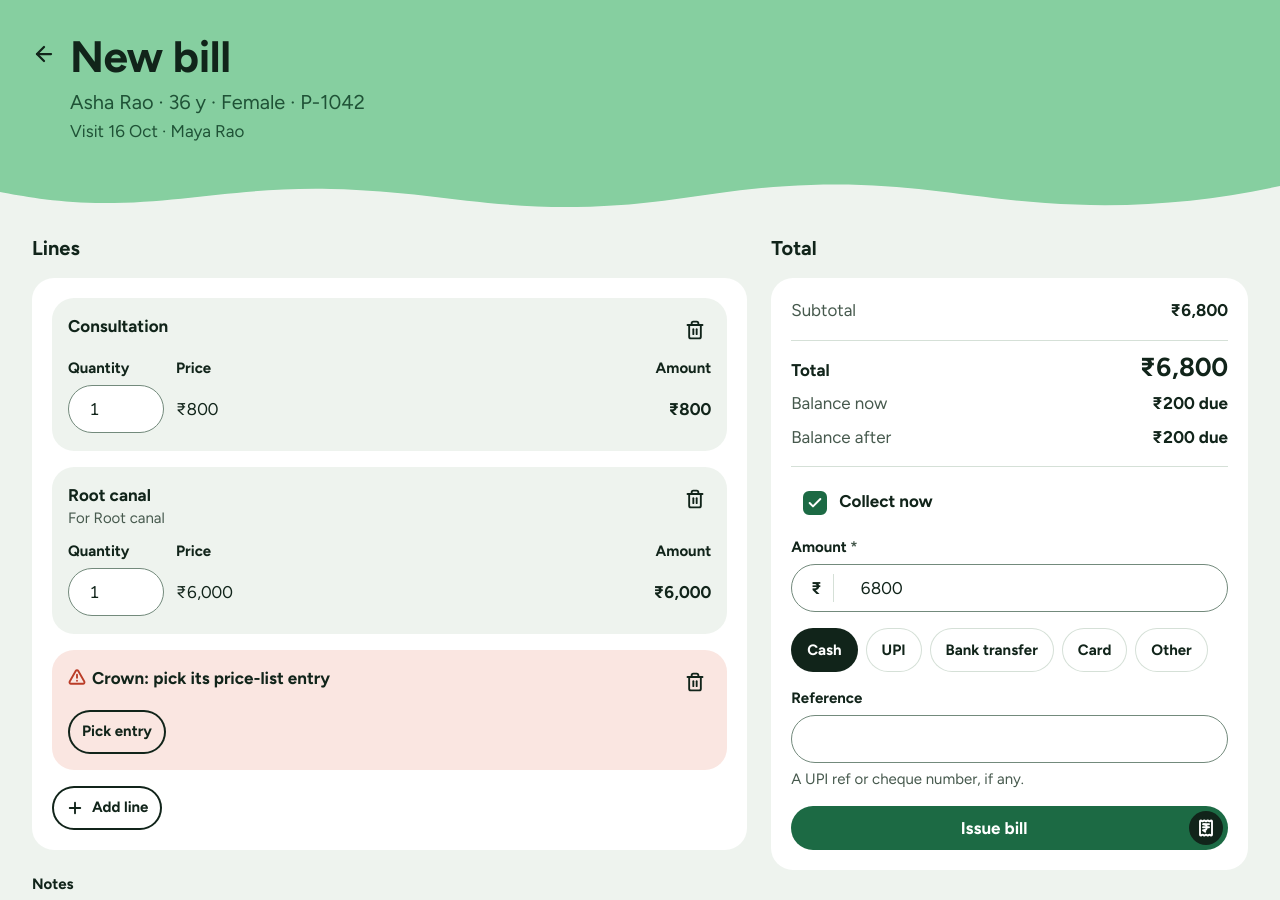
Test: NewBill (plan §15.2; D302 – D313) › issues nothing until the reminder has its entry, then issues it and goes back to the visit (D302, D308)
Click the button "Issue bill": (1010, 828) [791,806,1228,850]
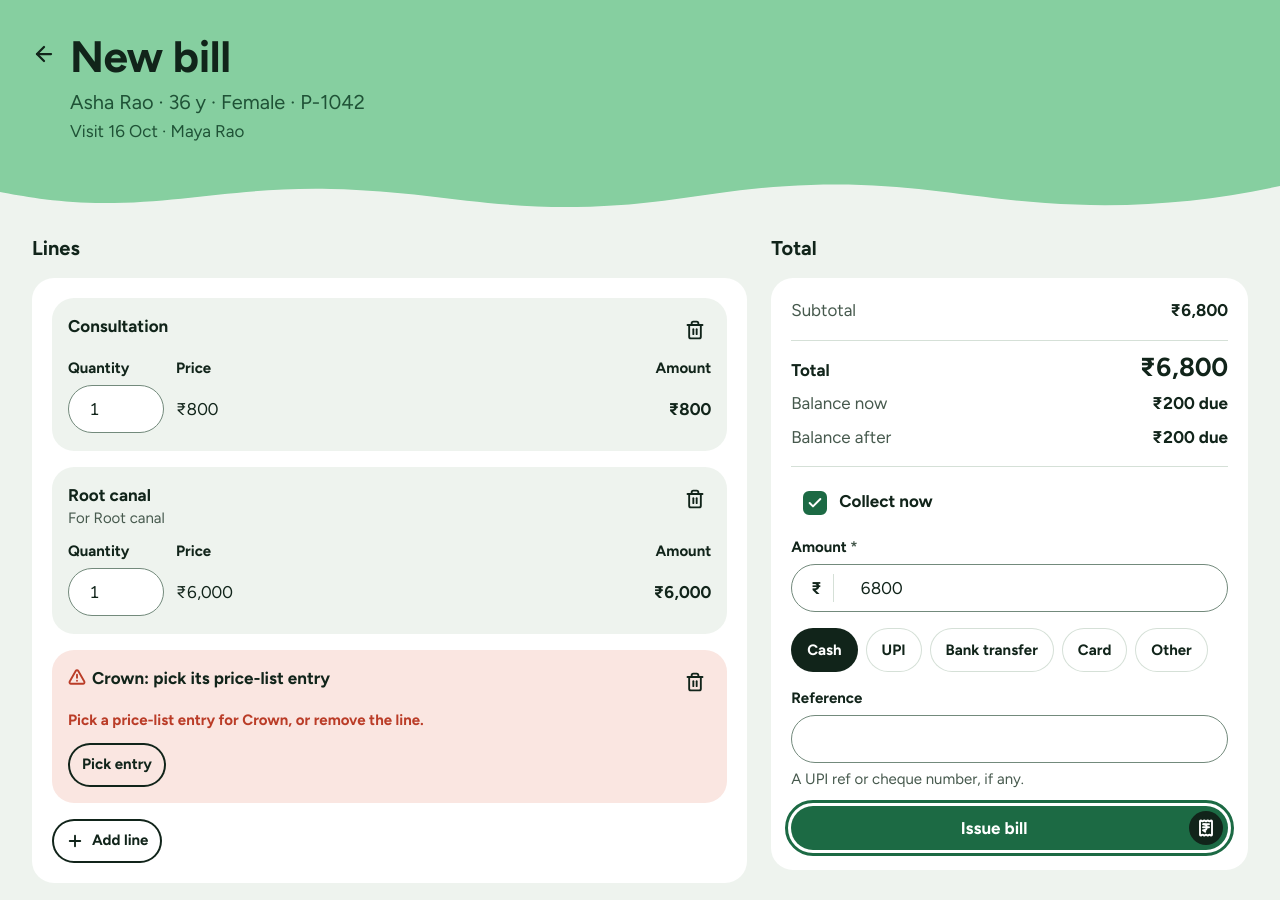
Expected: the text "Pick a price-list entry for Crown, or remove the line." is shown, [68,711,424,729]
Click the button with aria-label "Pick a price-list entry for Crown": (117, 765) [68,743,166,787]
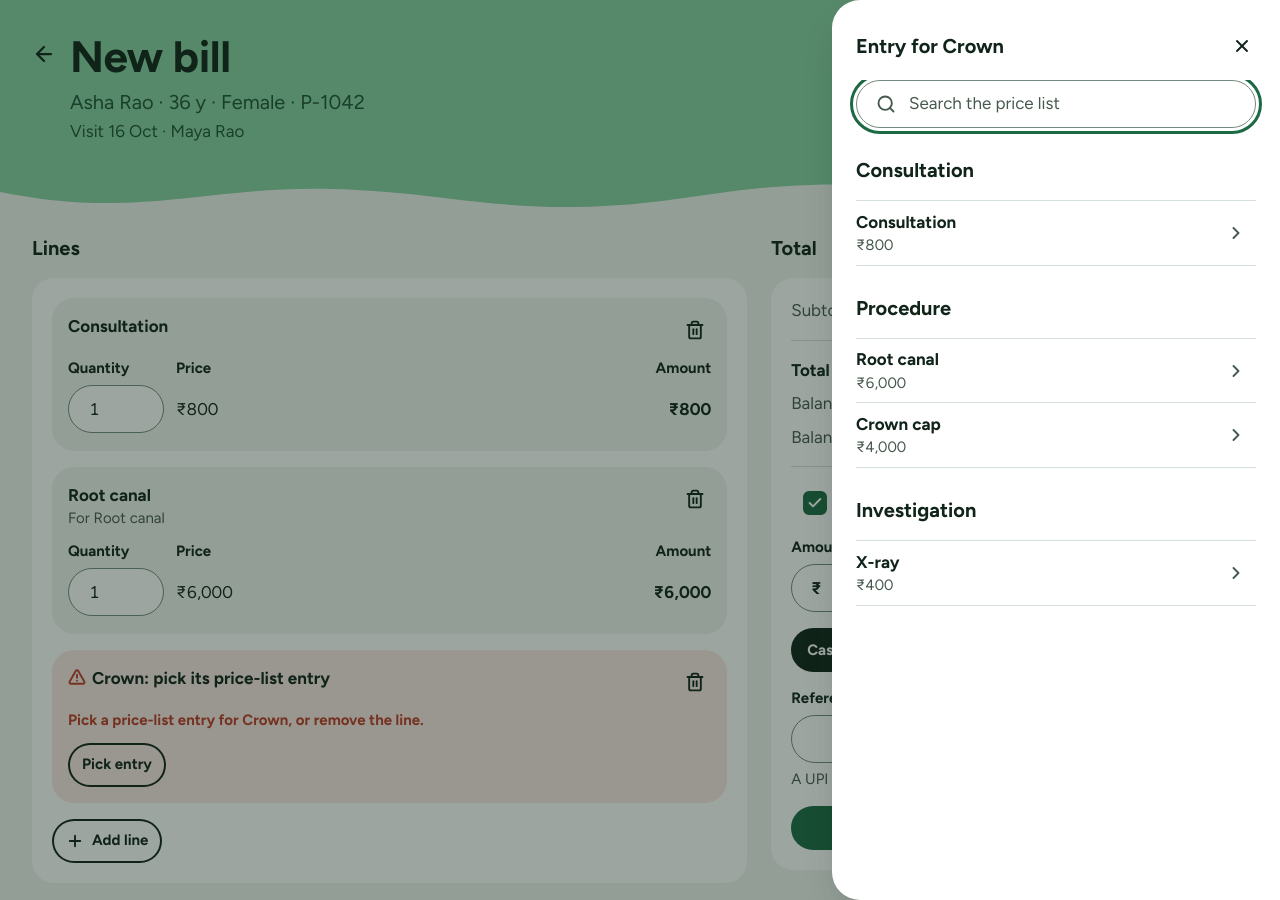
Click the button "Crown cap": (898, 424) [856,412,1214,437]
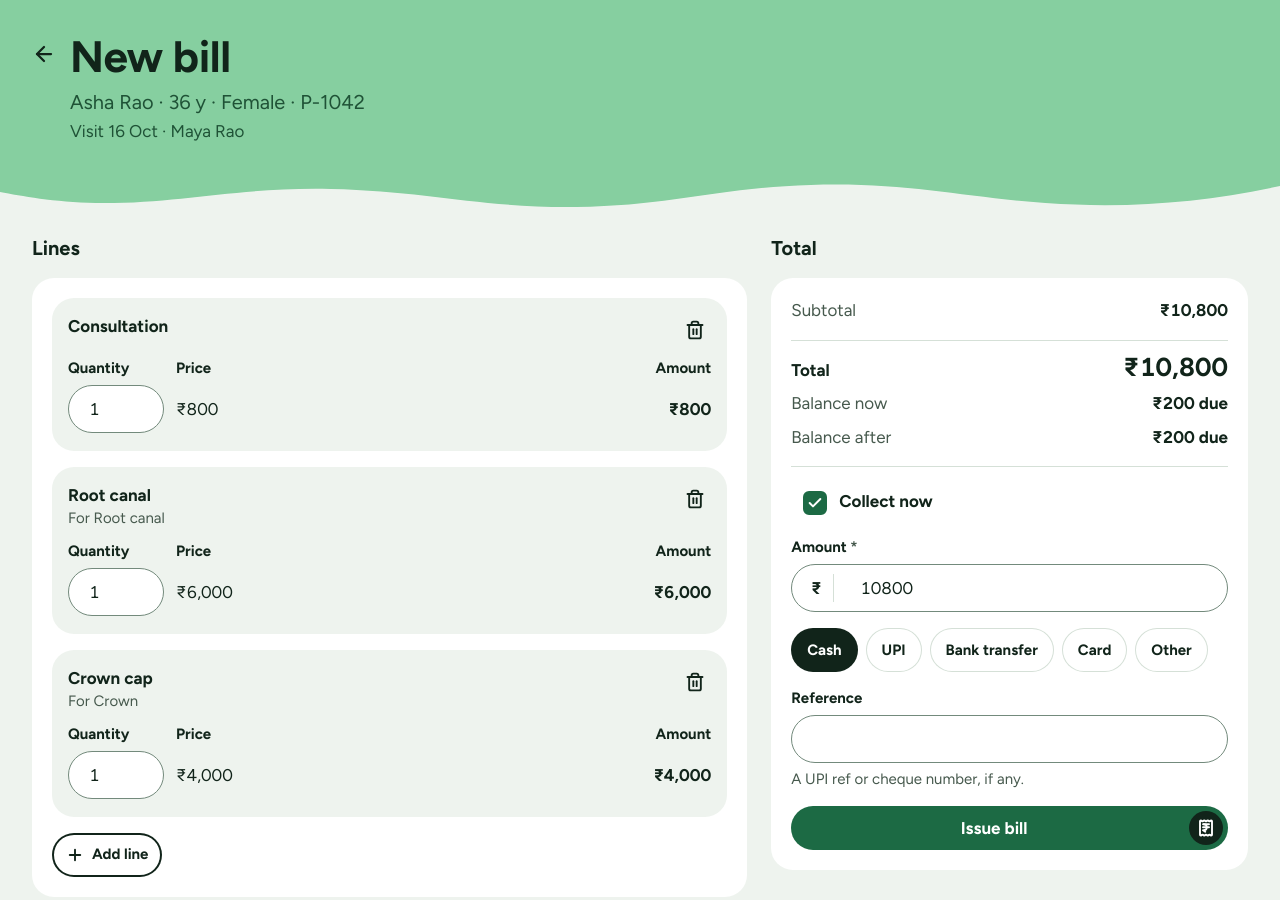
Expected: the text "For Crown" is shown, [68,692,138,710]
Expected: the 2nd text "₹10,800" is shown, [1124,353,1228,383]
Click the button "Issue bill": (1010, 828) [791,806,1228,850]
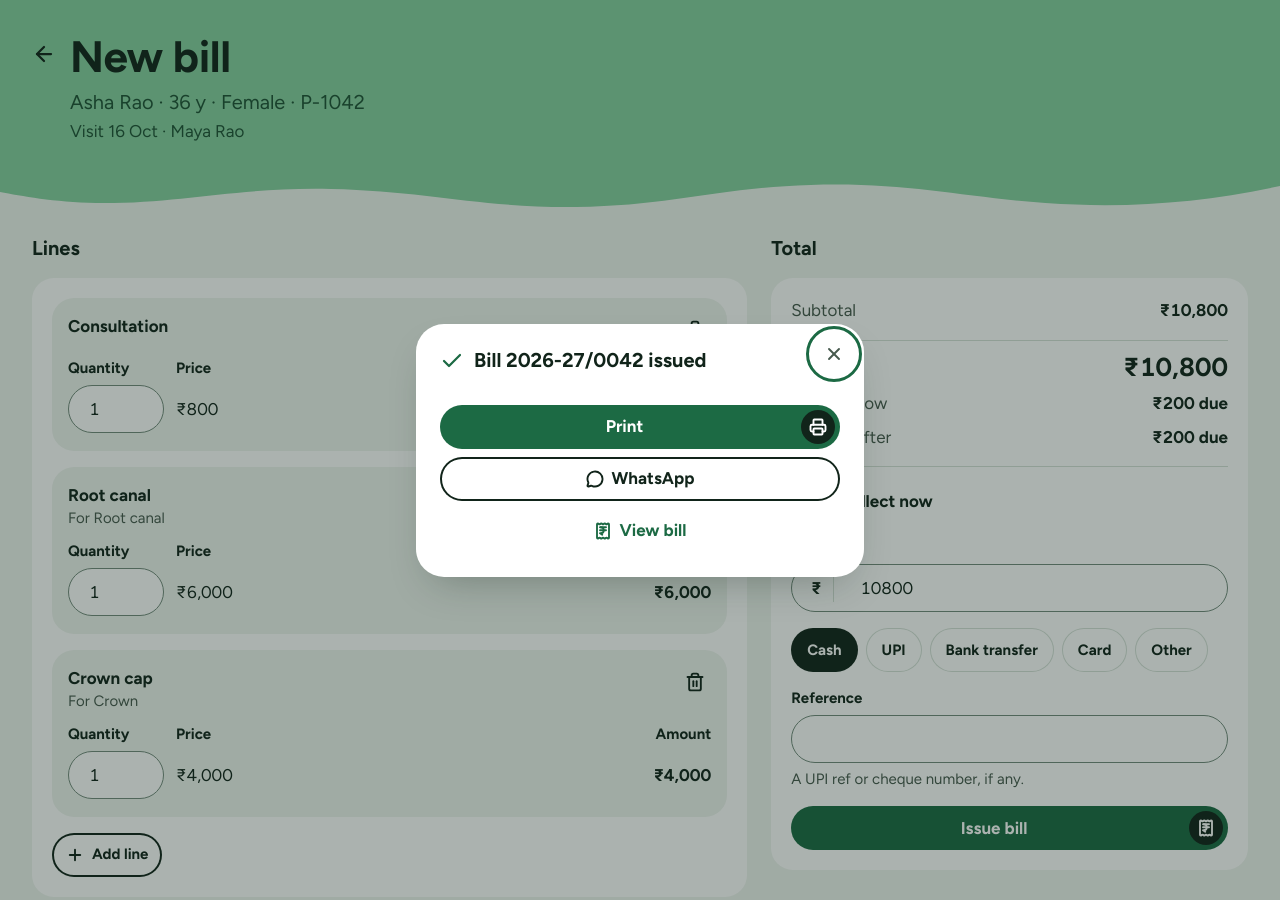
Expected: the heading "Bill 2026-27/0042 issued" is shown, [474,348,706,372]
